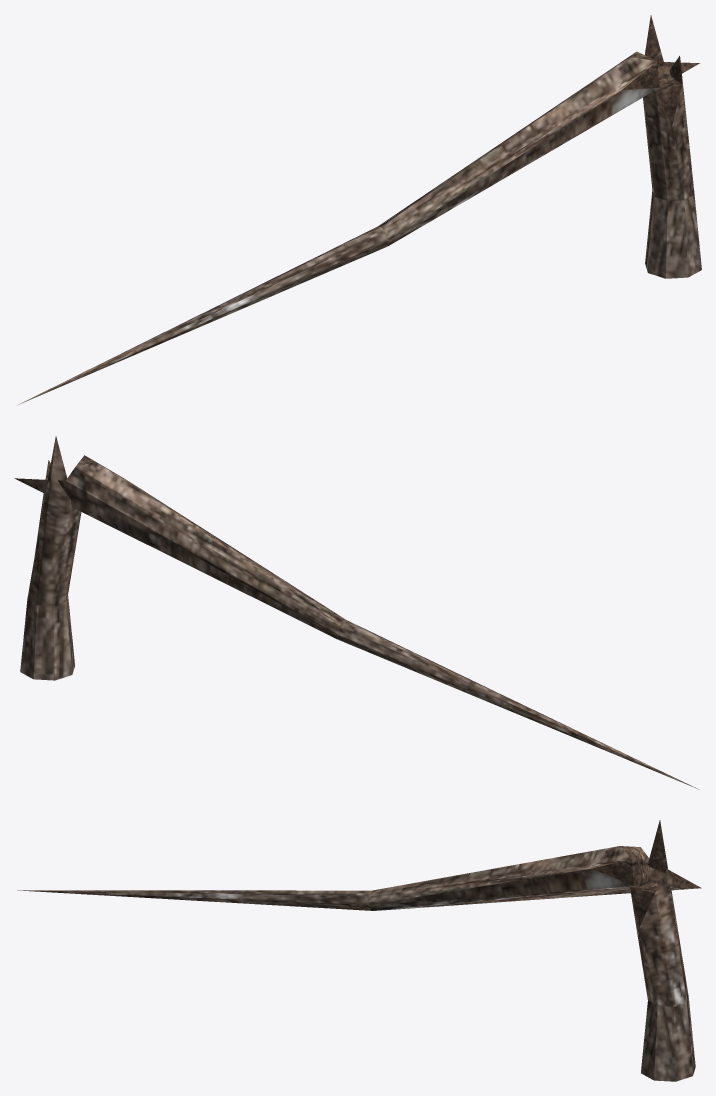
Rendered from Pine_Fallen_Broken_002.fbx.
The picture shows the model from 3 angles, top to bottom: view 1: azimuth 30°, elevation 25°; view 2: azimuth 150°, elevation 25°; view 3: azimuth 330°, elevation 25°; orthographic projection. The views are drawn at different scales.
Visible parts, largest first — view 1: Tree_Fir_Fallen_Broken_002; view 2: Tree_Fir_Fallen_Broken_002; view 3: Tree_Fir_Fallen_Broken_002.
Boxes of the visible parts, <box> form: Tree_Fir_Fallen_Broken_002: <box>18,15,701,404</box>; Tree_Fir_Fallen_Broken_002: <box>14,436,699,789</box>; Tree_Fir_Fallen_Broken_002: <box>17,820,701,1081</box>.
Size of the model in its own units: 1043 by 358 by 76.15.
